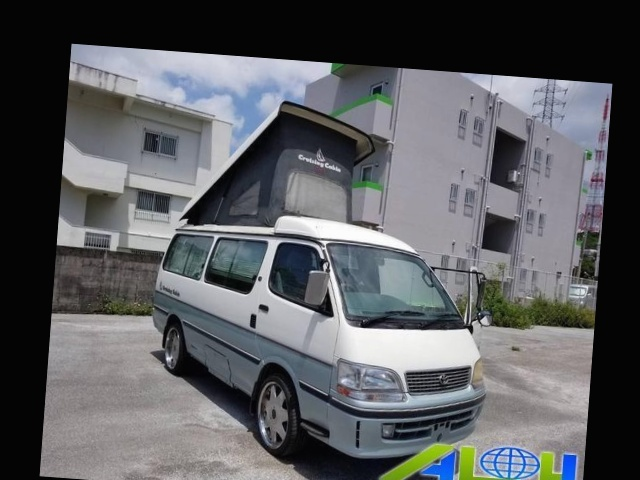van: (142, 210, 498, 469)
